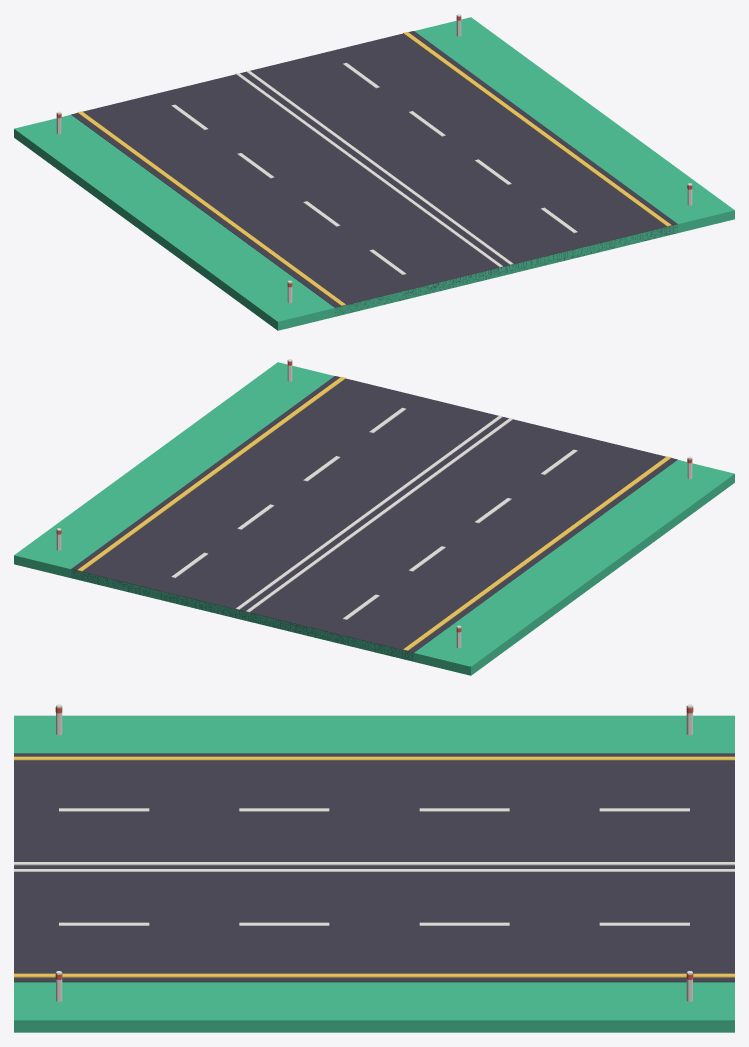
File: hwy_straight.glb
3 views of the same model, one above another, from view 1: azimuth 30°, elevation 25°; view 2: azimuth 150°, elevation 25°; view 3: azimuth 270°, elevation 25° (orthographic). The views are drawn at different scales.
Parts seen in each view (by area): view 1: hwy_straight; view 2: hwy_straight; view 3: hwy_straight.
Part boxes in pixels (left/top/right/bottom): hwy_straight: left=14, top=14, right=734, bottom=330; hwy_straight: left=14, top=359, right=734, bottom=675; hwy_straight: left=14, top=704, right=734, bottom=1032.
Size of the model in its own units: 16 by 1.01 by 16.
